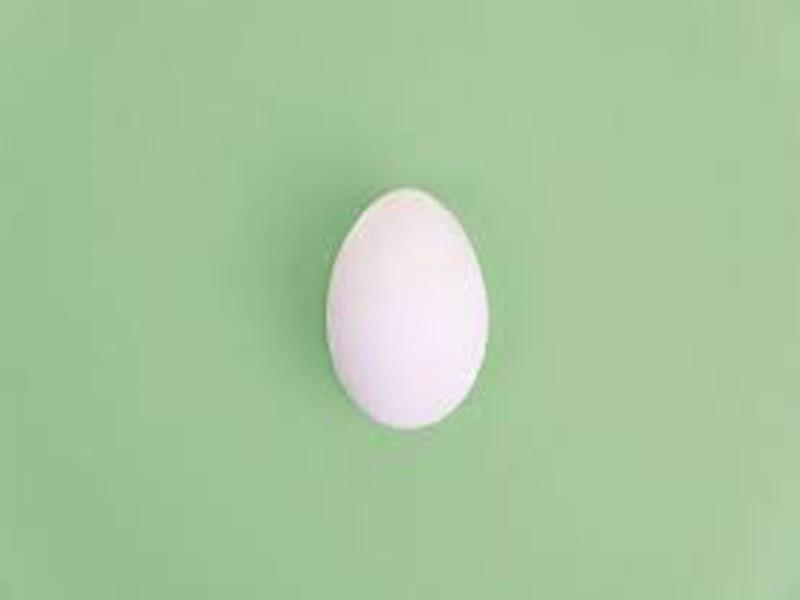Eggs: (323, 188, 488, 432)
